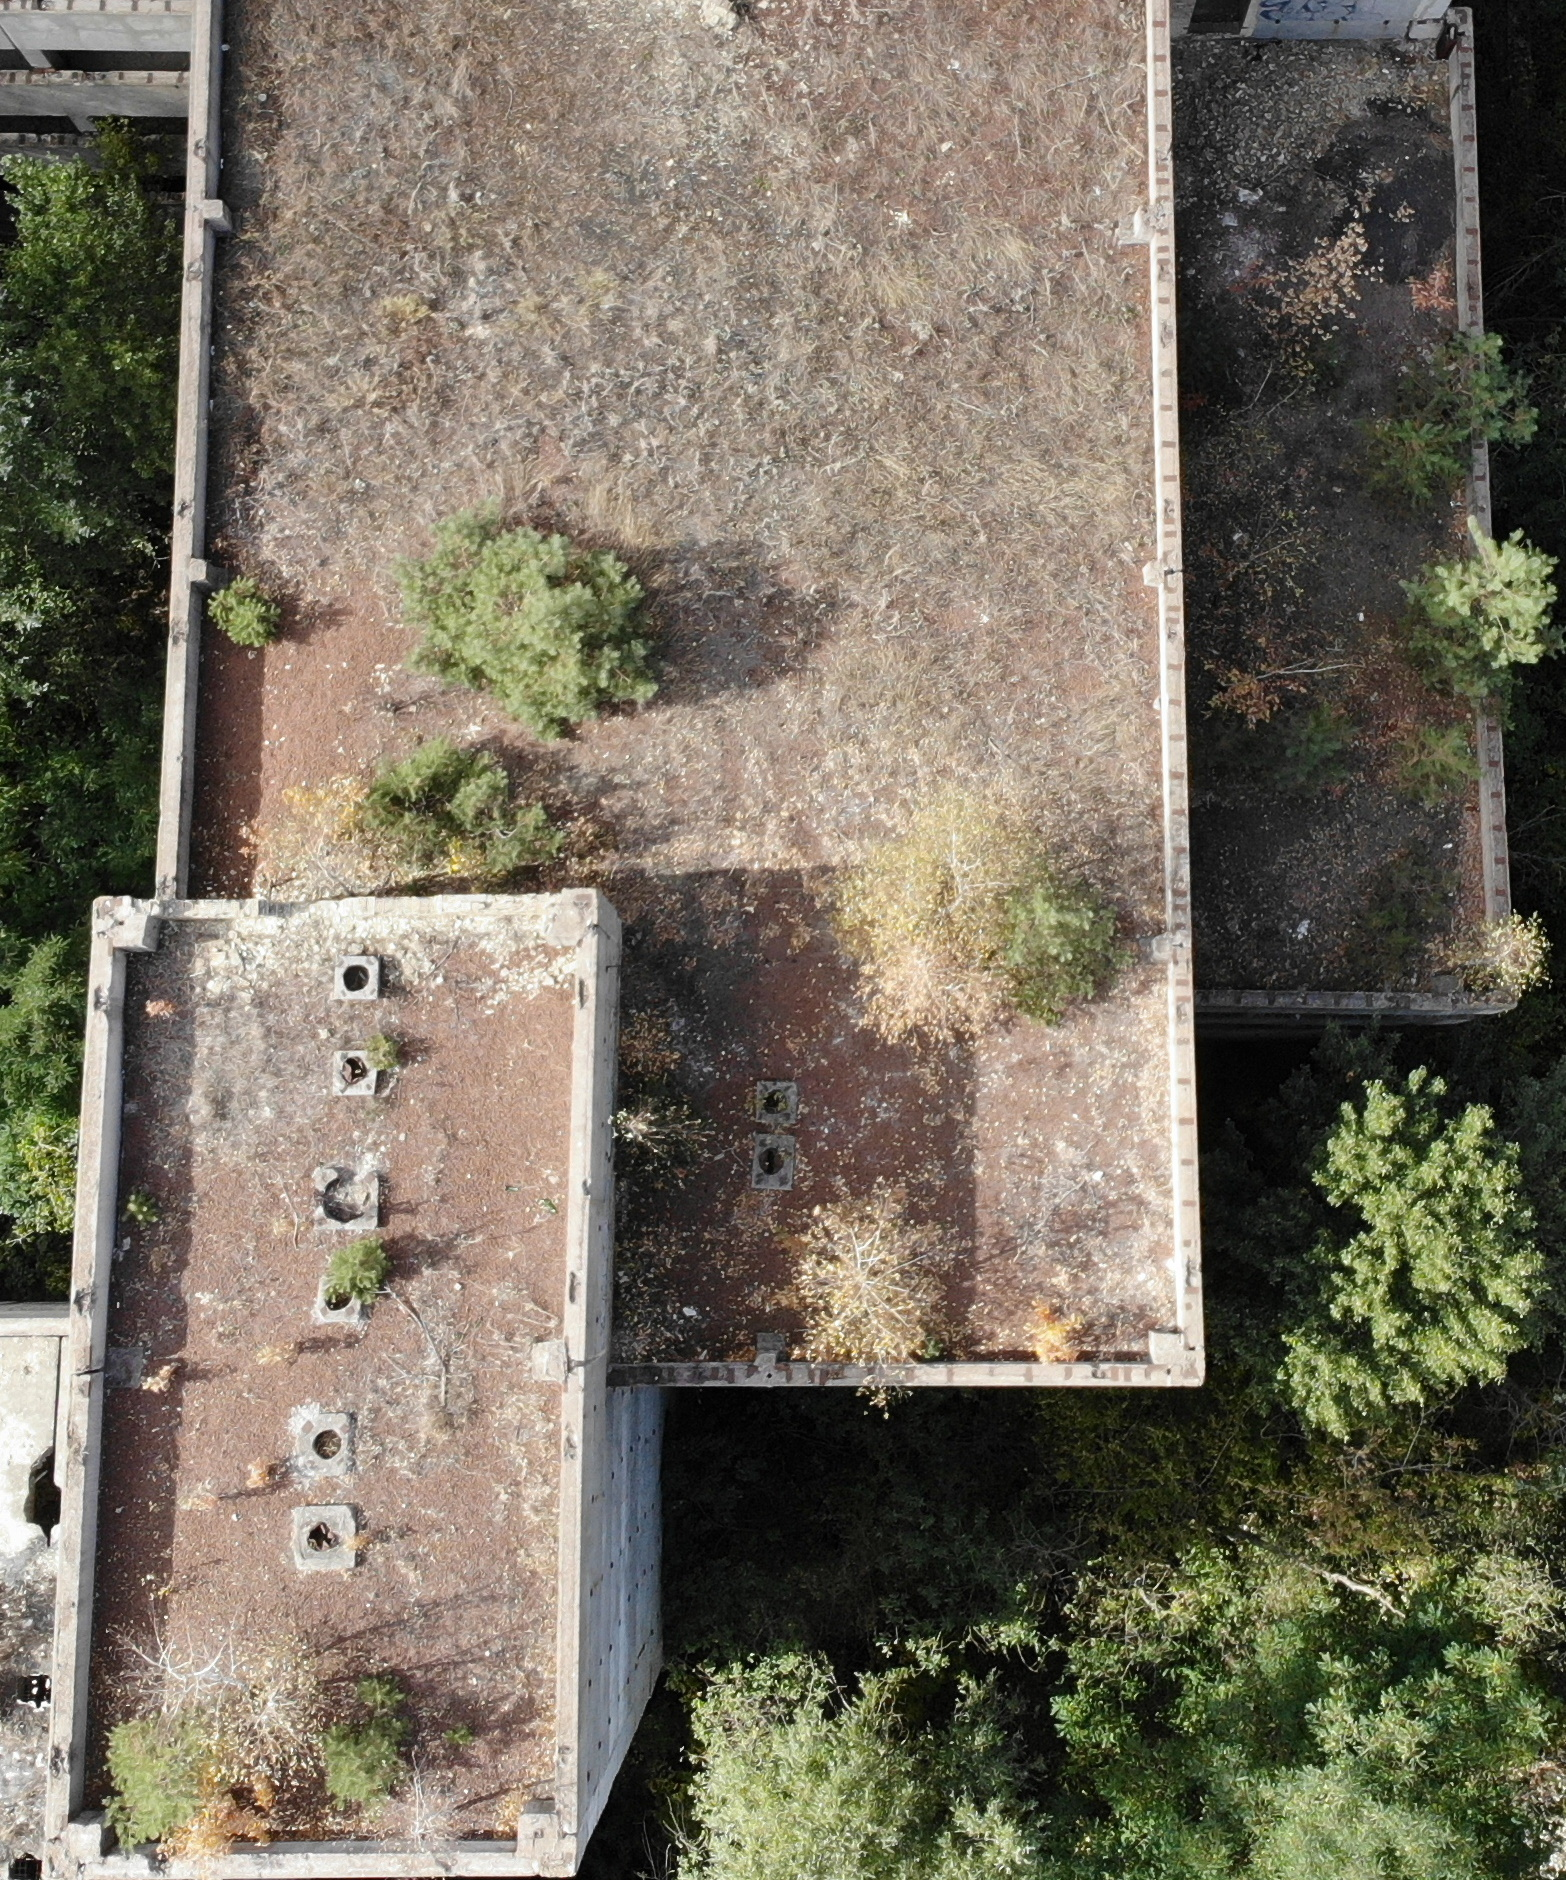tree: (849, 789, 1124, 1068), (390, 464, 671, 725), (329, 706, 612, 912), (771, 1202, 976, 1394), (1354, 315, 1530, 520), (119, 1625, 343, 1785), (279, 1671, 470, 1846), (1230, 236, 1397, 433), (86, 1729, 279, 1878), (1393, 542, 1557, 703), (1204, 643, 1351, 785), (1415, 892, 1557, 1024), (197, 571, 301, 668), (1386, 725, 1488, 817), (326, 1218, 415, 1310)
